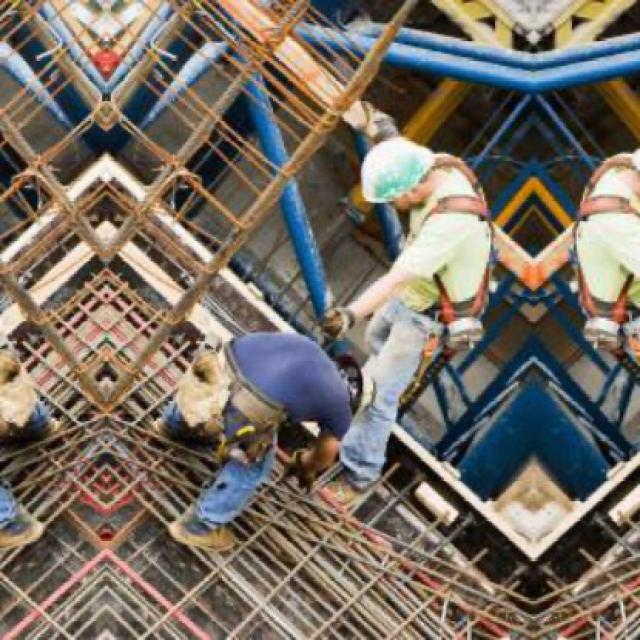helmet: (346, 134, 446, 223), (328, 348, 379, 420)
